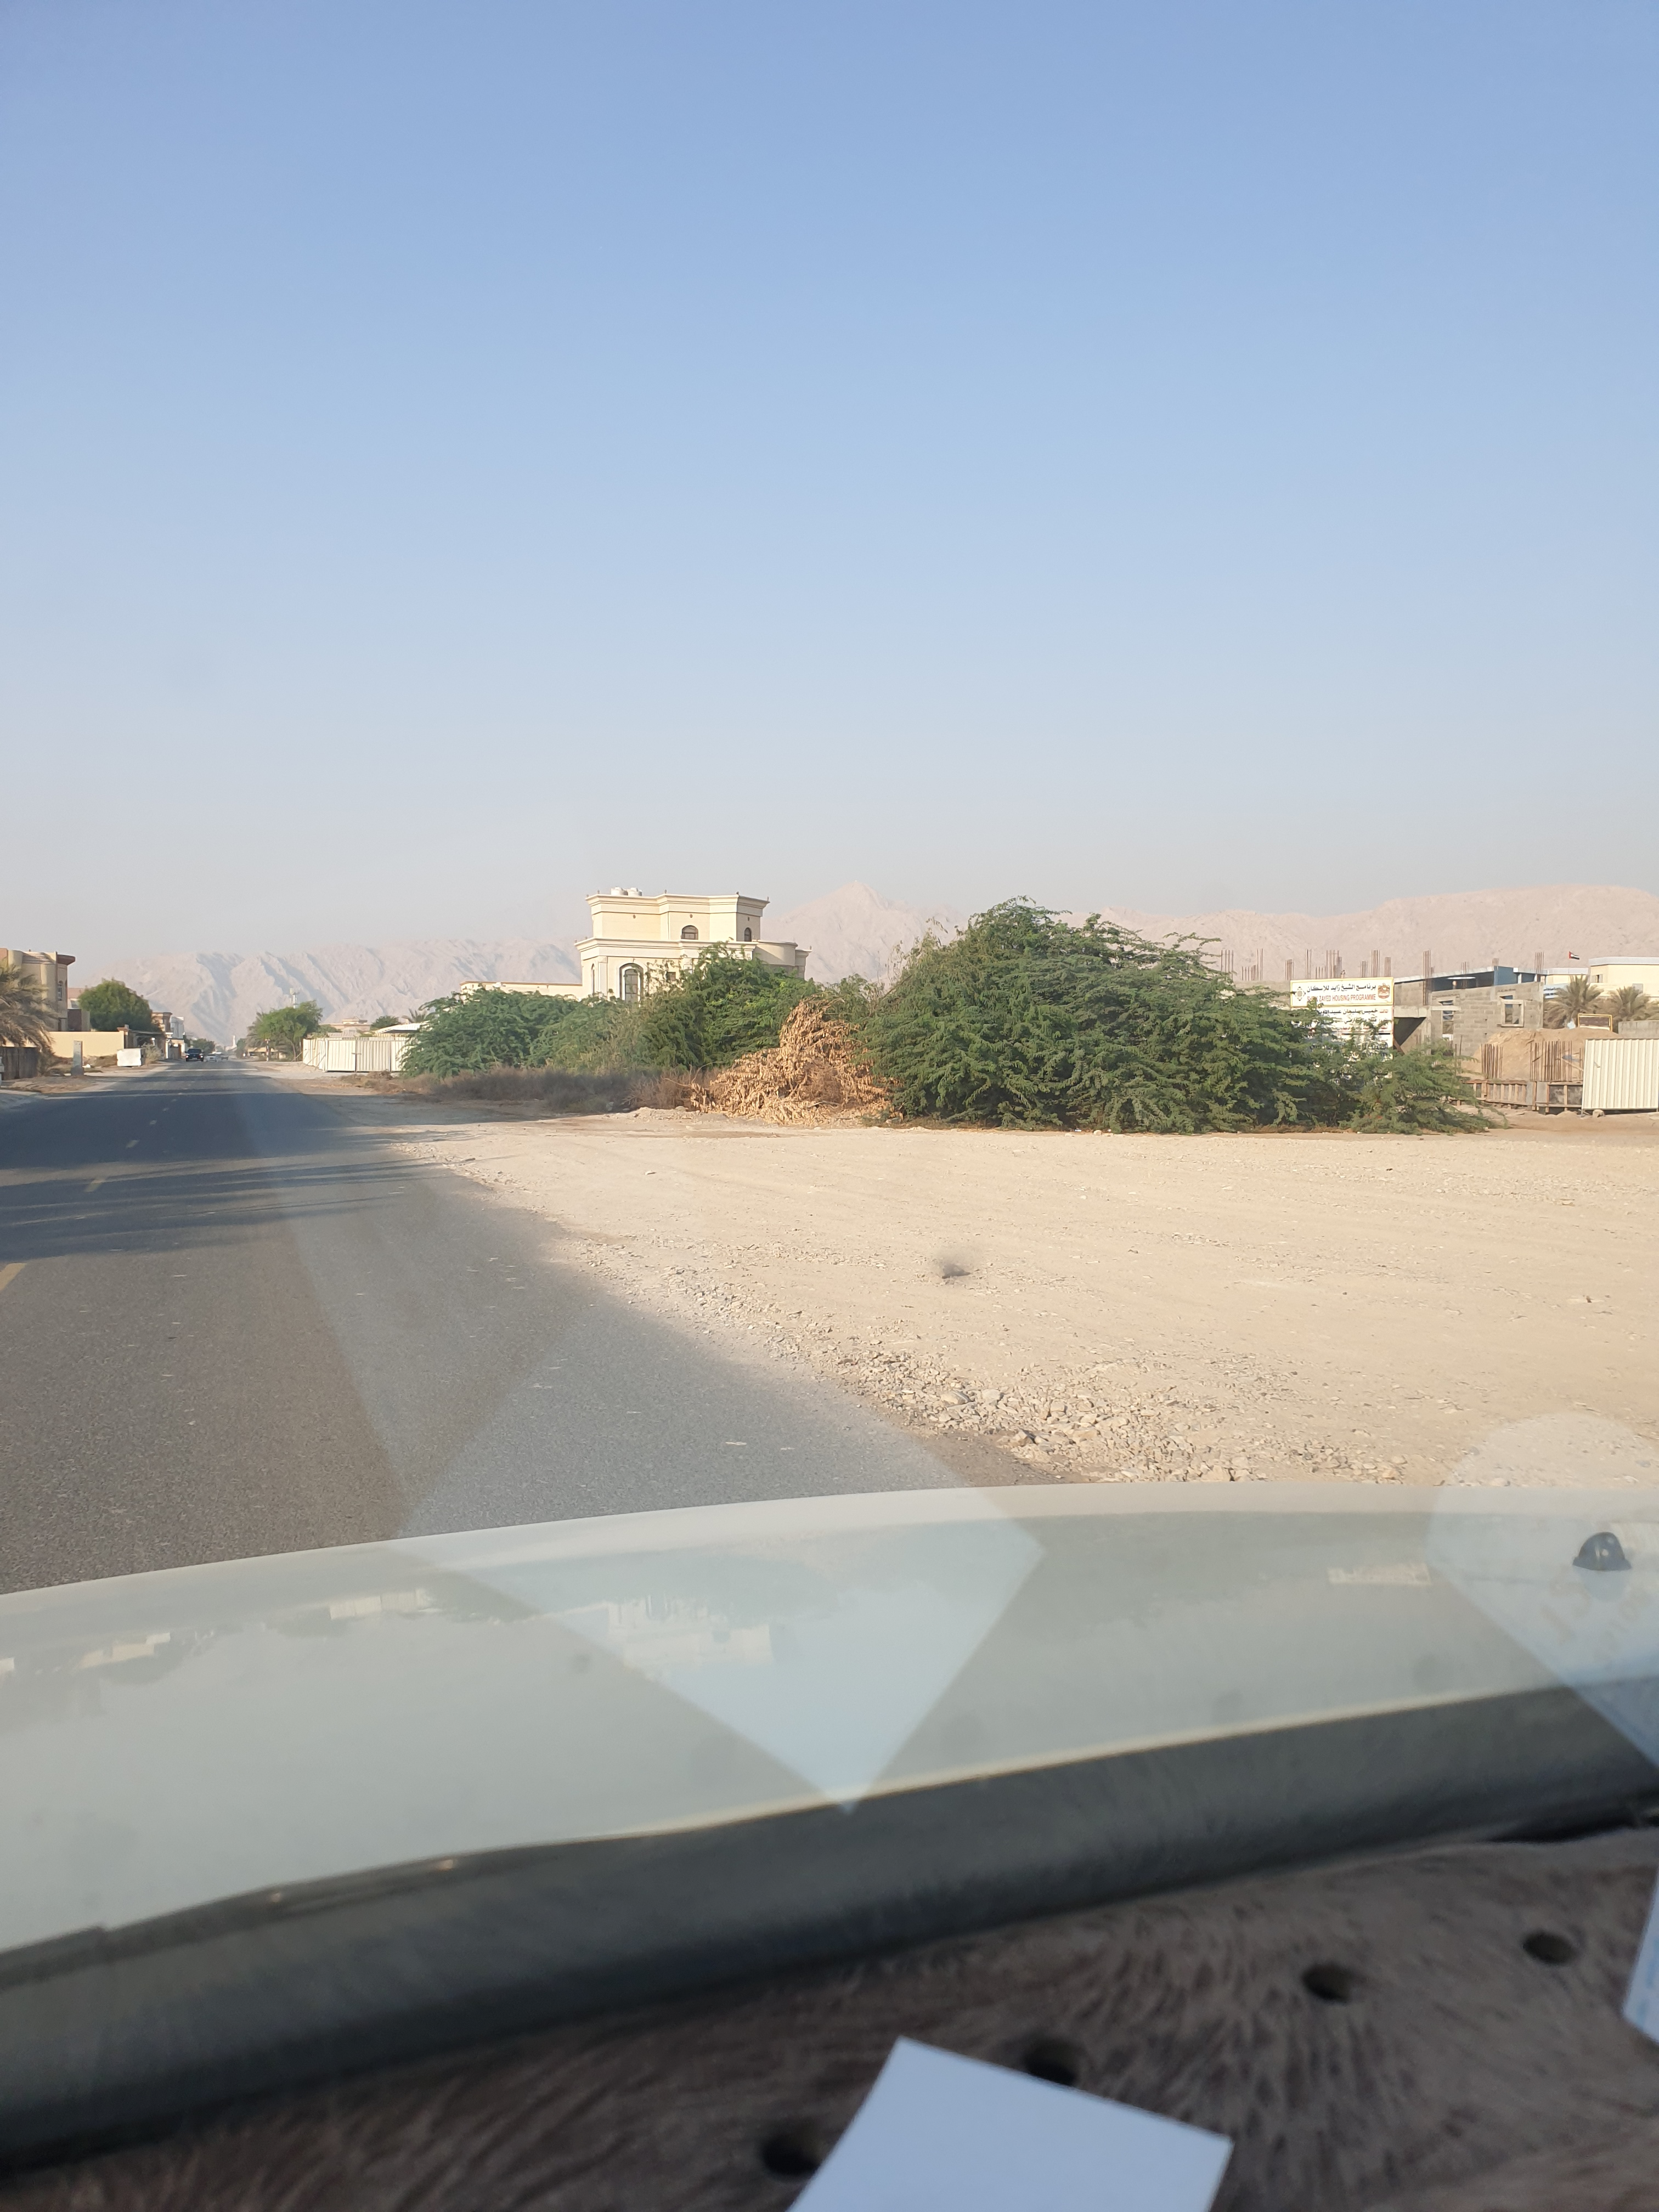fallen_trees: (716, 1085, 863, 1136)
